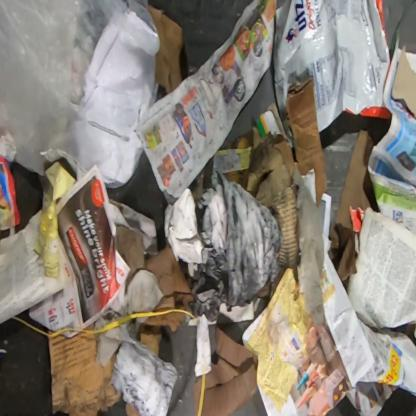cardboard: (204, 75, 327, 268), (47, 322, 123, 415), (193, 328, 257, 416), (392, 44, 416, 120), (134, 323, 164, 356)
soft_plastic: (0, 1, 161, 189), (274, 1, 392, 132)
